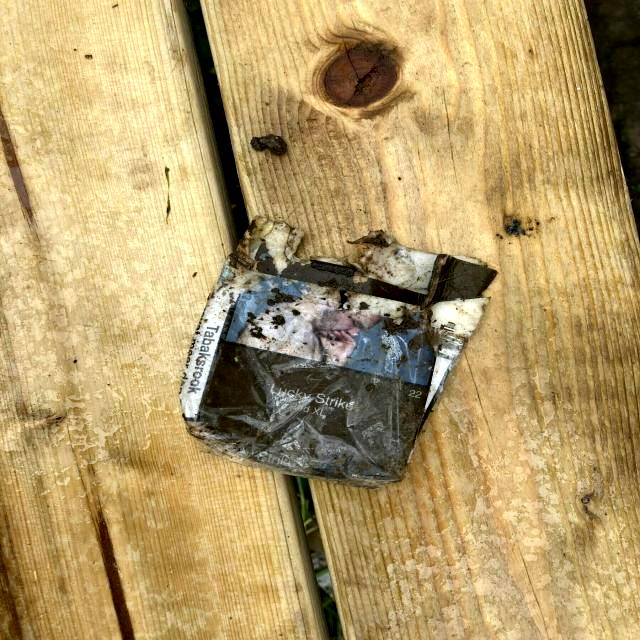Paper: (174, 212, 502, 494)
